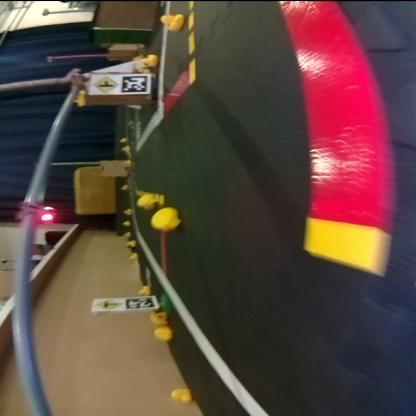Duckie: (151, 207, 179, 231), (158, 12, 184, 31), (168, 388, 190, 402), (136, 193, 152, 209), (152, 328, 172, 340), (142, 53, 156, 66), (150, 313, 167, 323), (138, 286, 150, 294), (128, 254, 136, 260), (126, 240, 134, 246), (123, 232, 131, 236), (122, 221, 130, 224)
Intersection sign: (88, 74, 116, 94), (94, 297, 122, 310)
QR code: (122, 73, 148, 93), (125, 297, 155, 308)
Traffic light: (16, 203, 56, 223)
